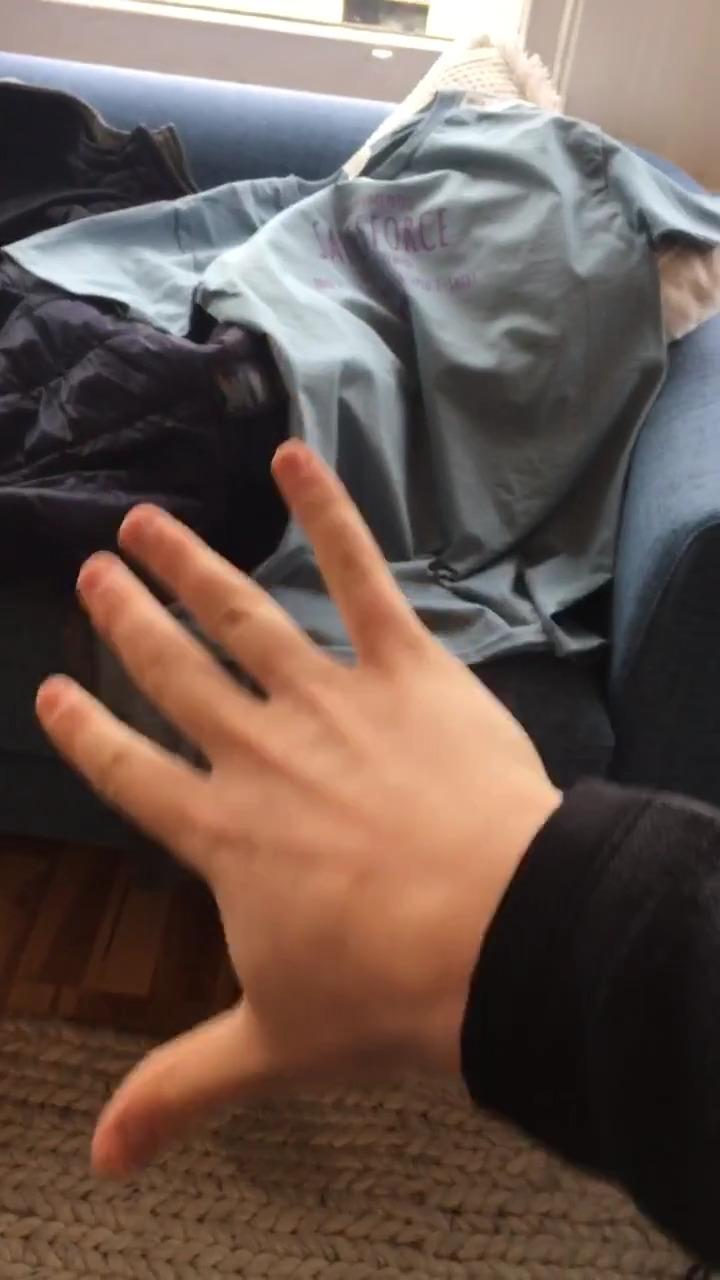Paper: (34, 442, 550, 1187)
